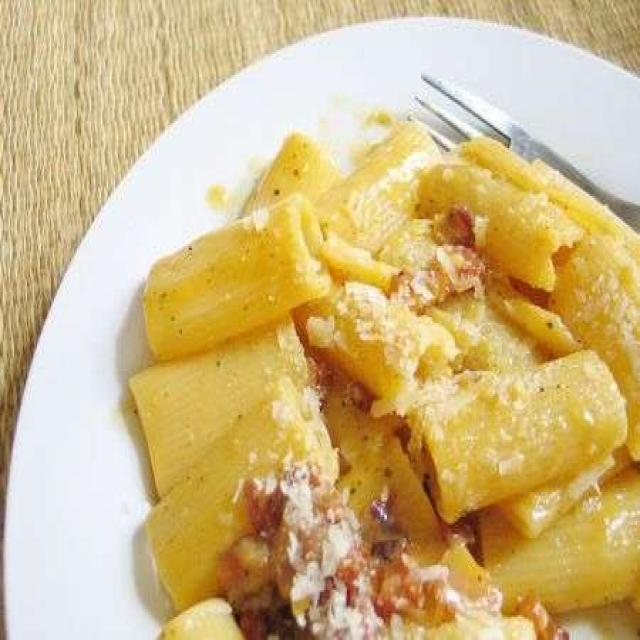Pasta with carbonara sauce: (108, 73, 640, 640)
